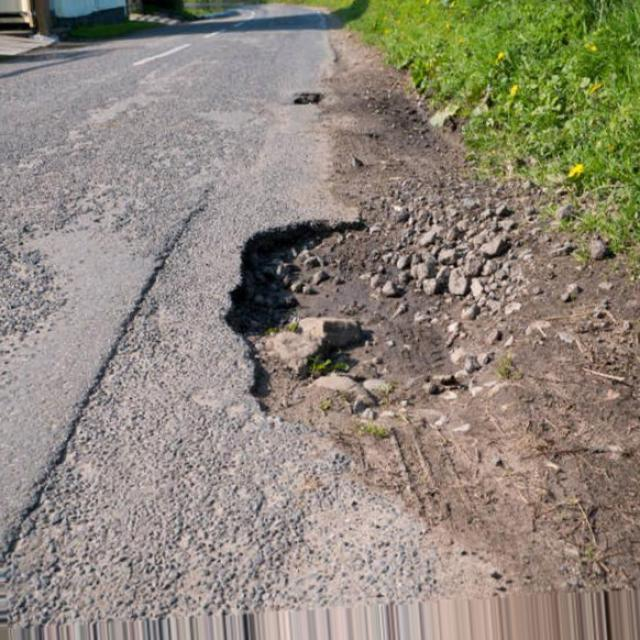Pinggir: (209, 213, 504, 521)
